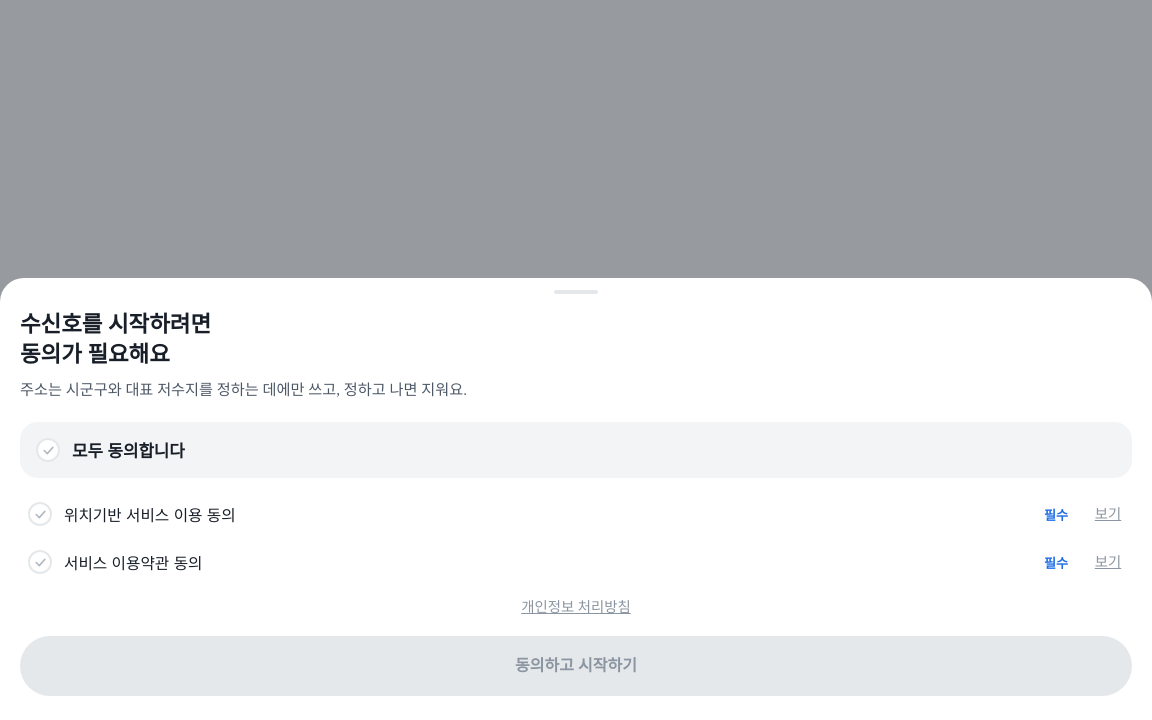
Test: ConsentSheet › '모두 동의합니다'로 필수 항목을 한 번에 켜고 다시 끌 수 있다
expect the button "동의하고 시작하기" is disabled: met, box [20,636,1132,696]
Click the button "모두 동의합니다".
click(128, 452)  # box [20,422,1132,478]
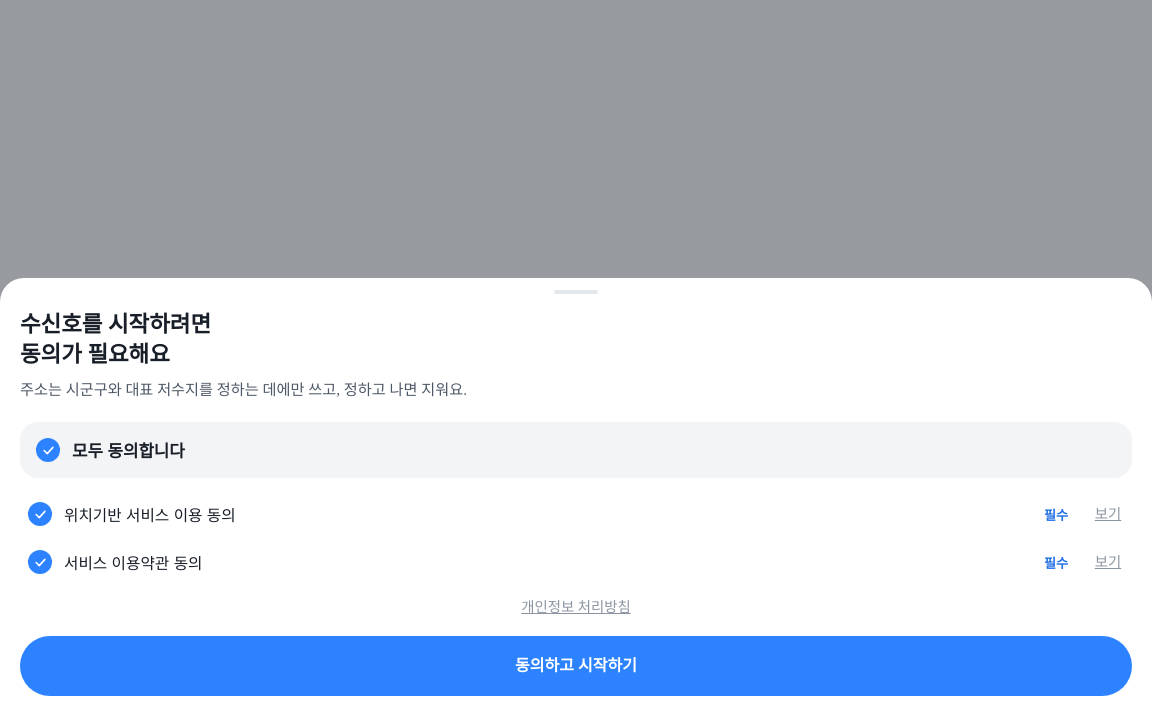
expect the button "동의하고 시작하기" is enabled: met, box [20,636,1132,696]
Click the button "모두 동의합니다".
click(128, 452)  # box [20,422,1132,478]
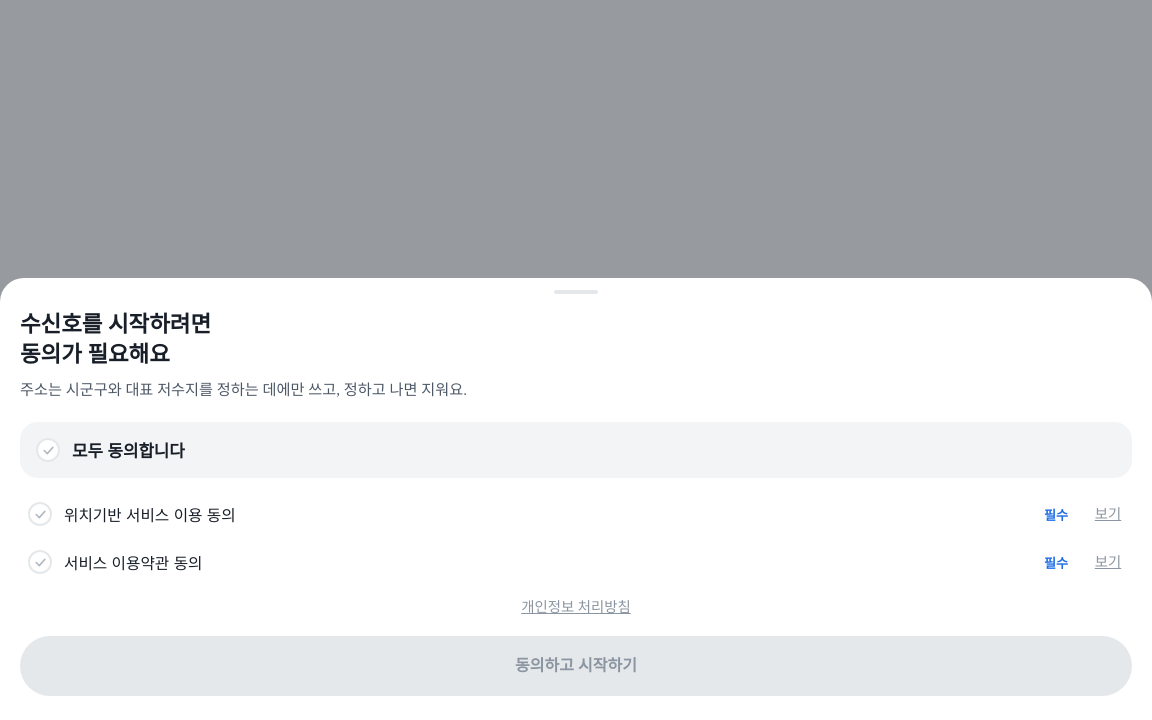
expect the button "동의하고 시작하기" is disabled: met, box [20,636,1132,696]
